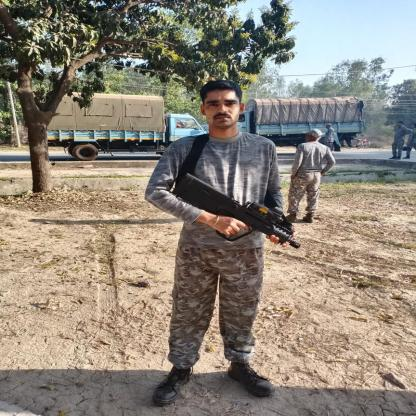rifle: (171, 172, 301, 249)
